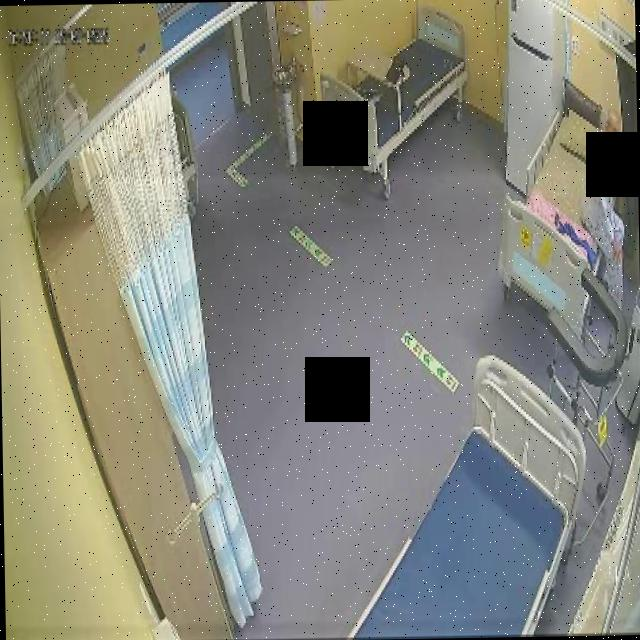bed: (346, 350, 592, 640), (496, 96, 626, 323), (318, 5, 467, 171)
patient: (580, 107, 630, 312)
sit: (580, 109, 630, 312)
